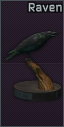Raven figurine: (0, 0, 64, 127)
